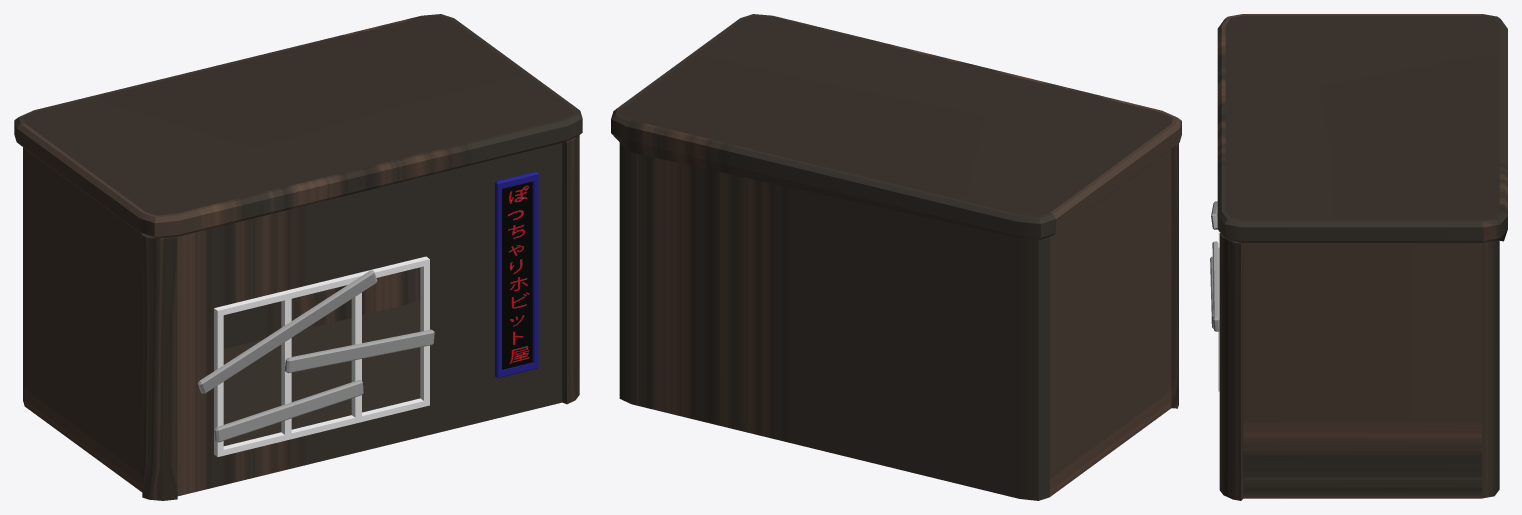
File: HabitationCommerce2.fbx
3 renders of one model, left to right at view 1: azimuth 30°, elevation 25°; view 2: azimuth 150°, elevation 25°; view 3: azimuth 270°, elevation 25°, orthographic. The views are drawn at different scales.
Visible parts, largest first — view 1: Habitation3; view 2: Habitation3; view 3: Habitation3.
Part boxes in pixels (left/top/right/bottom): Habitation3: left=14, top=14, right=582, bottom=500; Habitation3: left=611, top=14, right=1181, bottom=500; Habitation3: left=1210, top=14, right=1507, bottom=500.
Bounding box in the file's own units: 0.3978 × 0.2442 × 0.2369.
Materials: 4 (2 with a texture image).
